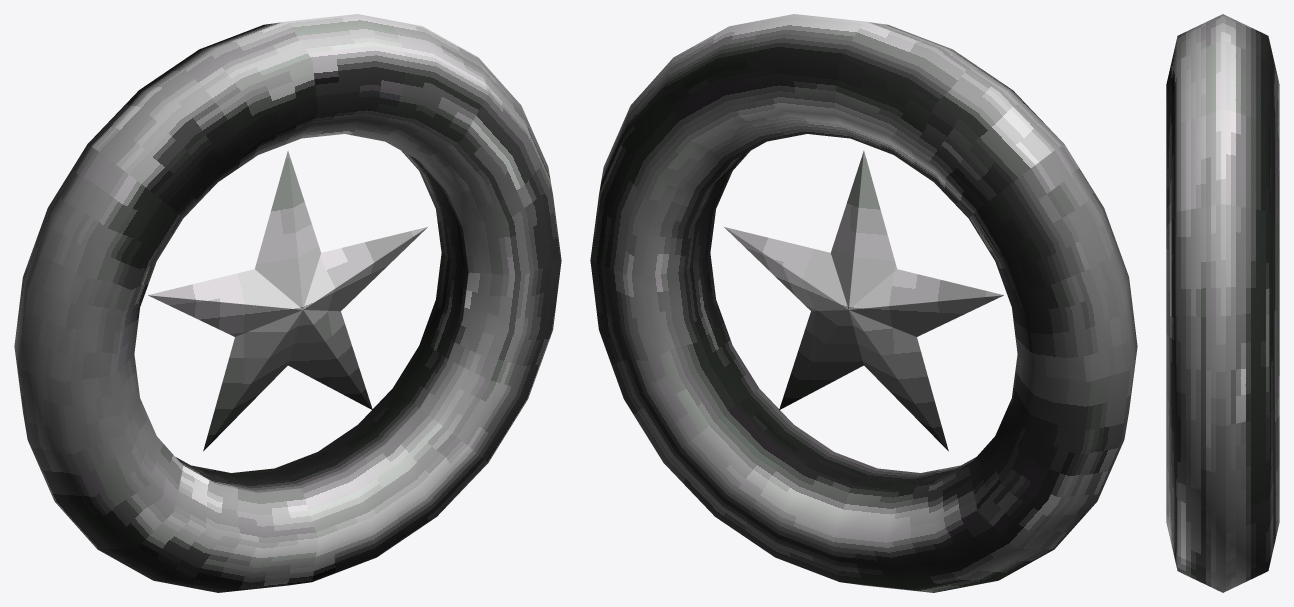
Rendered from RichRing.gltf.
3 renders of one model, left to right at view 1: azimuth 30°, elevation 25°; view 2: azimuth 150°, elevation 25°; view 3: azimuth 270°, elevation 25°, orthographic. The views are drawn at different scales.
Parts seen in each view (by area): view 1: RichRing; view 2: RichRing; view 3: RichRing.
Part boxes in pixels (bbox=[...]): RichRing: bbox=[14, 14, 561, 592]; RichRing: bbox=[590, 14, 1137, 592]; RichRing: bbox=[1166, 14, 1279, 592].
Bounding box in the file's own units: 1.5 × 1.5 × 0.2925.
Materials: 1 (1 with a texture image).
